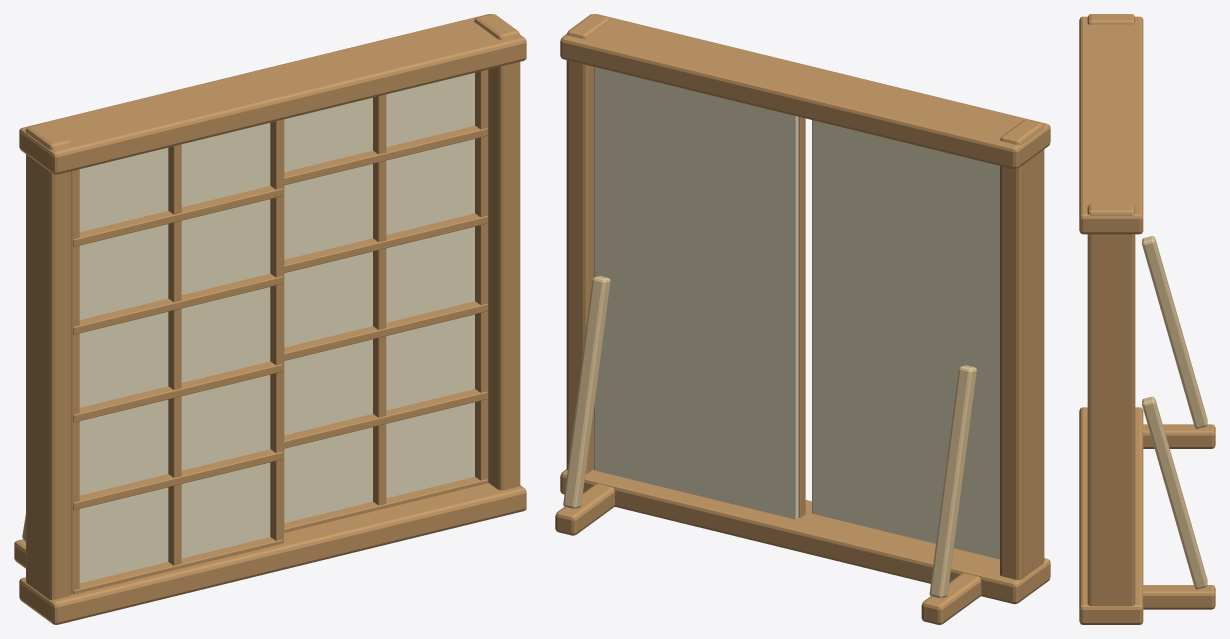
The model's file is S005_sliding_shoji.glb.
3 views of the same model, side by side, from view 1: azimuth 30°, elevation 25°; view 2: azimuth 150°, elevation 25°; view 3: azimuth 270°, elevation 25° (orthographic). The views are drawn at different scales.
Parts seen in each view (by area): view 1: paper_panel, paper_panel.001, shoji_track.001, shoji_outer_post, shoji_track, shoji_outer_post.001, shoji_vertical.002, shoji_vertical.001, shoji_vertical.005, shoji_vertical.004, shoji_vertical, shoji_lattice.001 (+9 smaller); view 2: paper_panel.001, paper_panel, shoji_track.001, shoji_outer_post, shoji_track, shoji_outer_post.001, rear_triangular_brace, rear_triangular_brace.001, shoji_vertical.003, rear_plywood_foot, rear_plywood_foot.001; view 3: shoji_outer_post.001, shoji_track.001, shoji_track, rear_triangular_brace.001, rear_triangular_brace, rear_plywood_foot.001, rear_plywood_foot, shoji_outer_post.
Boxes of the visible parts, box(x1,y1,x2,y2) form: paper_panel: box(79, 123, 270, 583); paper_panel.001: box(284, 73, 474, 523); shoji_track.001: box(19, 14, 526, 174); shoji_outer_post: box(26, 123, 71, 600); shoji_track: box(19, 482, 526, 624); shoji_outer_post.001: box(474, 14, 520, 490); shoji_vertical.002: box(270, 119, 283, 542); shoji_vertical.001: box(168, 144, 181, 565); shoji_vertical.005: box(475, 69, 488, 482); shoji_vertical.004: box(373, 94, 386, 505); shoji_vertical: box(71, 169, 79, 594); shoji_lattice.001: box(73, 449, 282, 510); paper_panel.001: box(594, 67, 798, 519); paper_panel: box(812, 120, 999, 559); shoji_track.001: box(560, 14, 1050, 169); shoji_outer_post: box(1000, 119, 1044, 580); shoji_track: box(560, 469, 1050, 604); shoji_outer_post.001: box(566, 14, 610, 474); rear_triangular_brace: box(929, 365, 976, 598); rear_triangular_brace.001: box(563, 276, 610, 509); shoji_vertical.003: box(798, 117, 805, 517); rear_plywood_foot: box(921, 573, 981, 624); rear_plywood_foot.001: box(555, 483, 614, 535); shoji_outer_post.001: box(1087, 204, 1135, 606); shoji_track.001: box(1079, 16, 1143, 234); shoji_track: box(1079, 407, 1143, 624); rear_triangular_brace.001: box(1142, 396, 1207, 589); rear_triangular_brace: box(1142, 236, 1207, 428); rear_plywood_foot.001: box(1142, 585, 1215, 609); rear_plywood_foot: box(1142, 424, 1215, 448); shoji_outer_post: box(1087, 14, 1135, 24).
Bounding box in the file's own units: 2.6 × 2.5 × 0.745.
